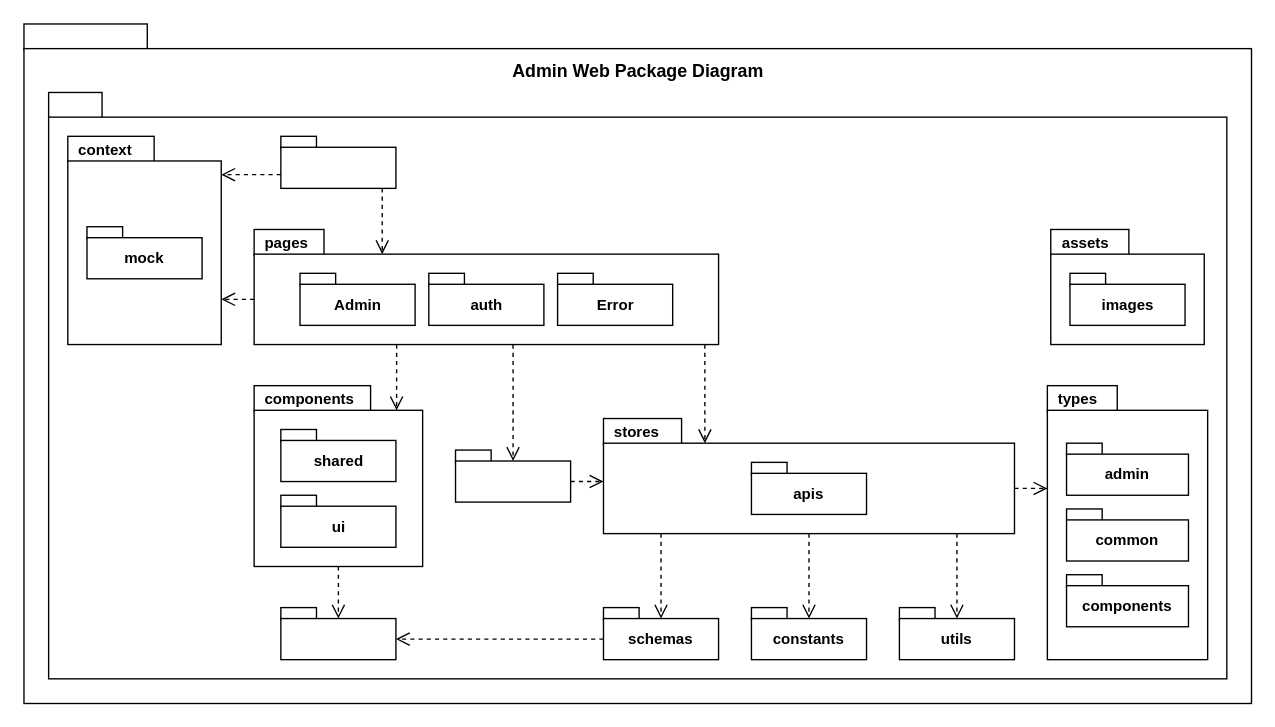
The diagram is 1275 pixels wide and 727 high, and some of its shapes have lost their labels. The shapes that lost their labels are listed below. From the top down, each one's centre as x and y in pixels, then its label:
point 74,105: src
point 337,167: routes
point 512,481: hooks
point 337,638: lib
